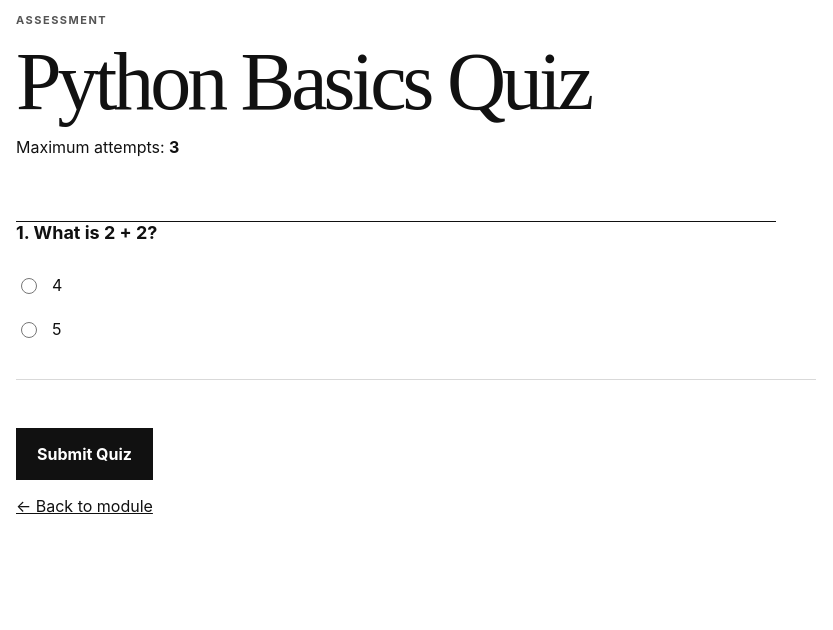
Test case: QuizPage › shows a failed quiz result when the learner selects an incorrect answer
The image size is (833, 630).
Check: the heading "Python Basics Quiz" is shown, box left=16, top=36, right=590, bottom=127
Click the radio button labelled "5" at (29, 330), box left=21, top=322, right=37, bottom=338
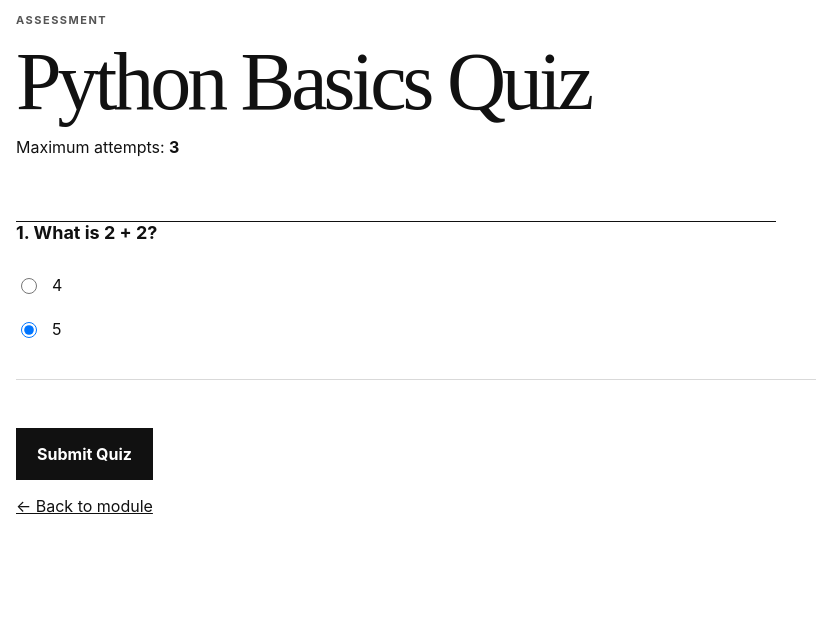
Click the button "Submit Quiz" at (84, 454), box left=16, top=428, right=153, bottom=480
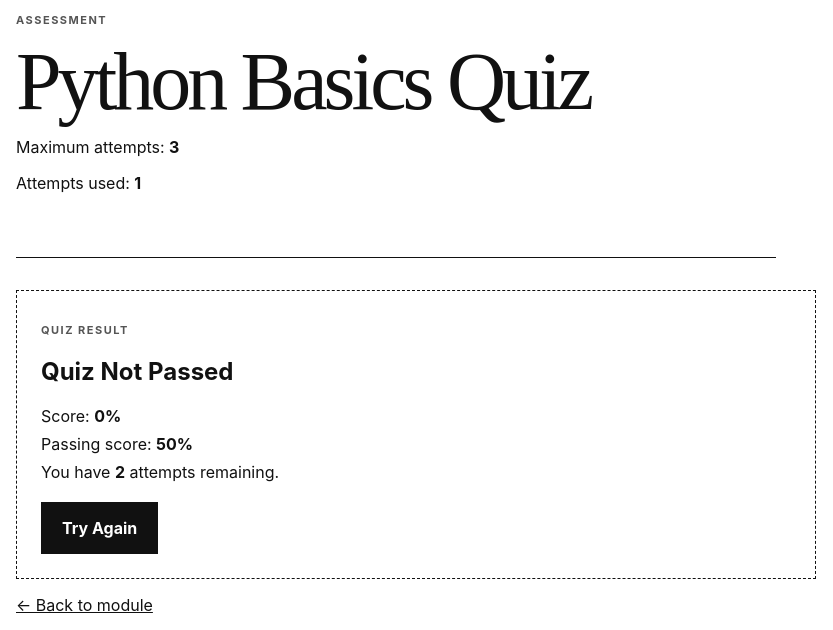
Check: the heading "Quiz Not Passed" is shown, box left=41, top=357, right=234, bottom=386
Check: the text "0%" is shown, box left=94, top=406, right=121, bottom=426
Check: the button "Try Again" is shown, box left=41, top=502, right=158, bottom=554
